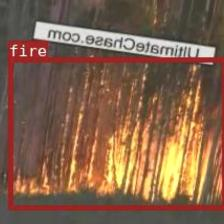fire: (7, 56, 224, 208)
